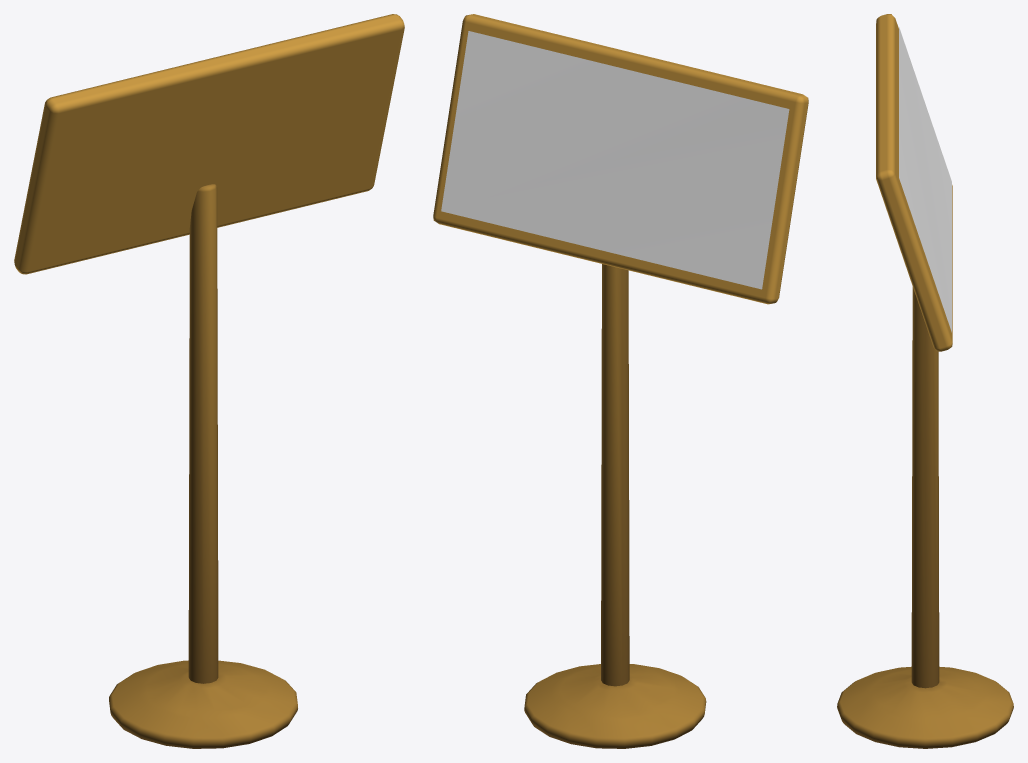
The model's file is lg_sign_post.glb.
3 renders of one model, left to right at view 1: azimuth 30°, elevation 25°; view 2: azimuth 150°, elevation 25°; view 3: azimuth 270°, elevation 25°, orthographic. The views are drawn at different scales.
Visible parts, largest first — view 1: merged_toon_C8963C; view 2: group, merged_toon_C8963C; view 3: merged_toon_C8963C, group.
Part boxes in pixels (bbox=[...]): merged_toon_C8963C: bbox=[14, 14, 404, 748]; group: bbox=[441, 31, 789, 289]; merged_toon_C8963C: bbox=[433, 14, 808, 748]; merged_toon_C8963C: bbox=[837, 14, 1013, 748]; group: bbox=[899, 27, 951, 332].
Bounding box in the file's own units: 0.66 × 1.19 × 0.3061.
